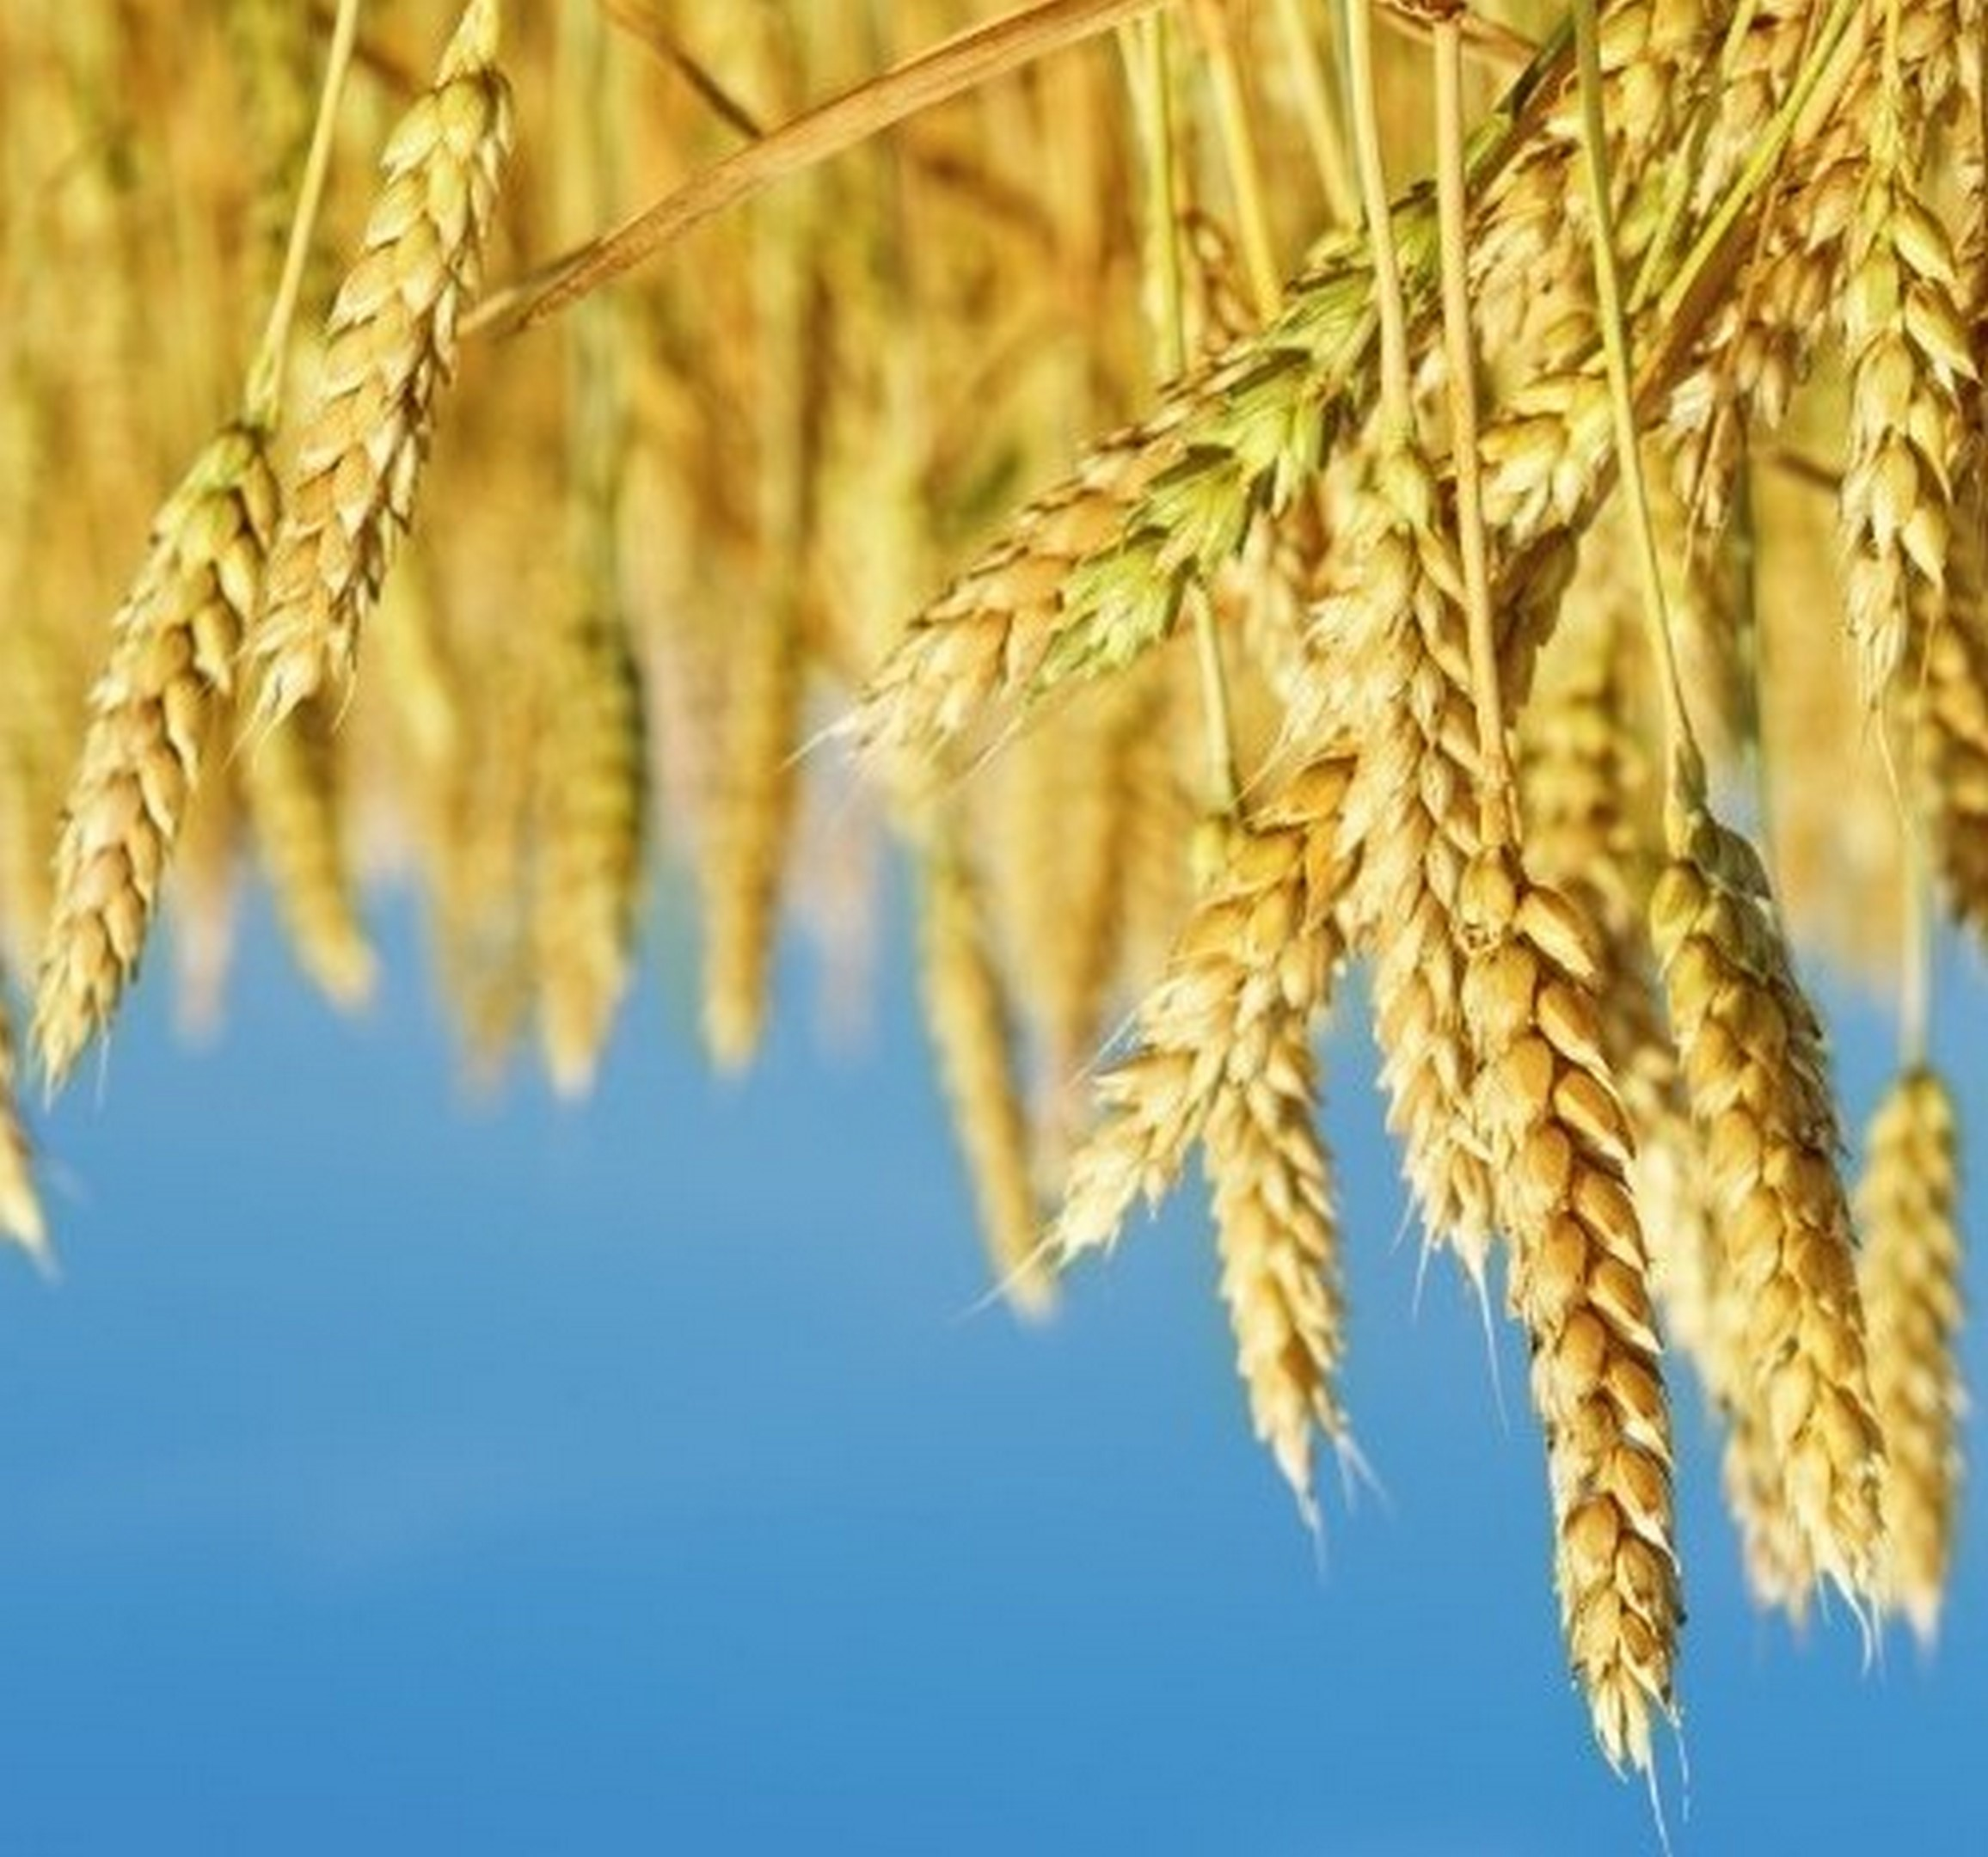Healthy Wheat: (35, 65, 552, 1084), (1417, 796, 1939, 1785)
